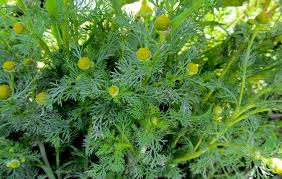pineple: (56, 85, 120, 148)
